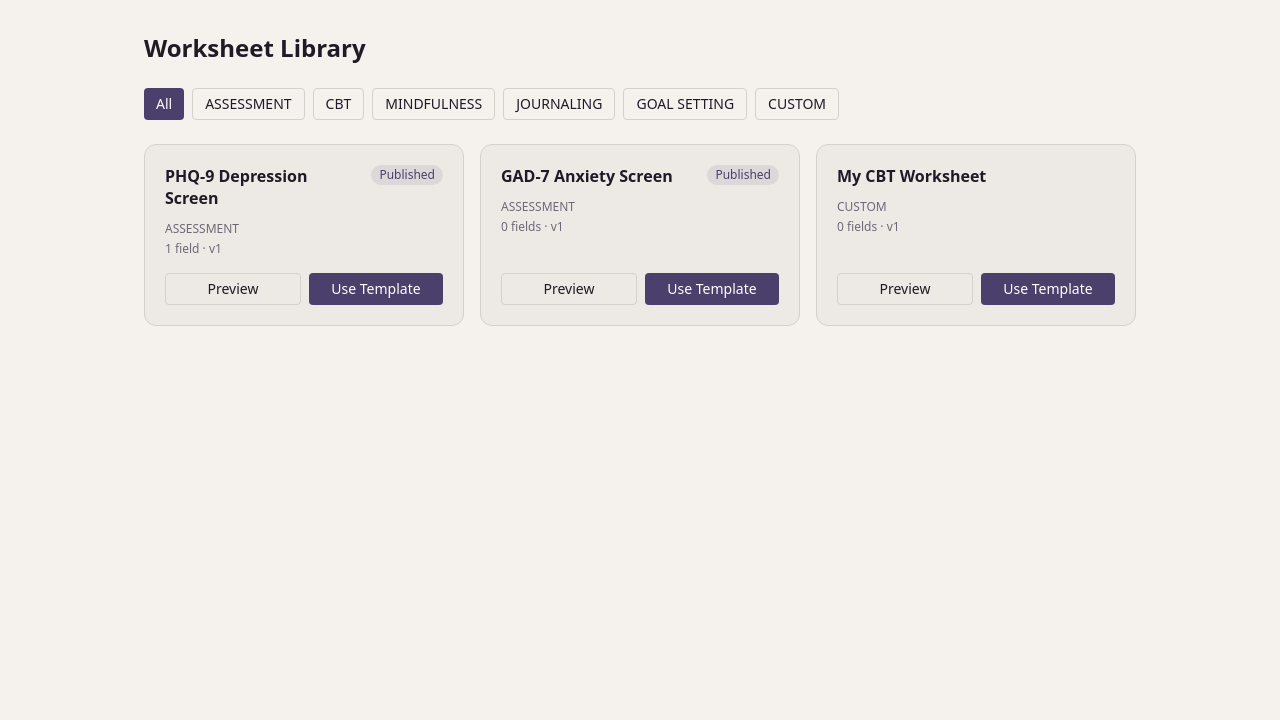
Test: Worksheet library page › closing the preview dialog removes it from the DOM
The width and height of the screenshot is (1280, 720).
Expected: the heading "PHQ-9 Depression Screen" is shown, [165,165,308,209]
Click the button "Preview" below "PHQ-9 Depression Screen" at (233, 289), box [165,273,301,305]
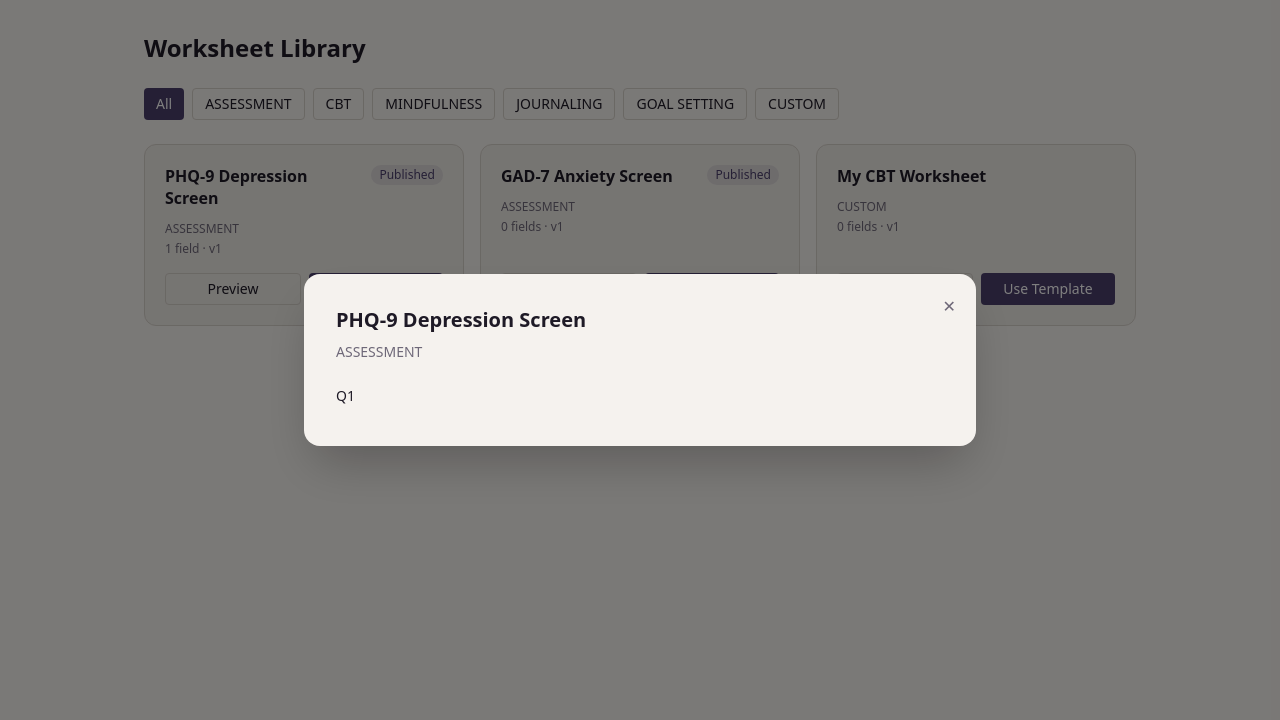
Expected: the dialog is shown
Click the button named "close" at (949, 307), box [939,290,960,324]
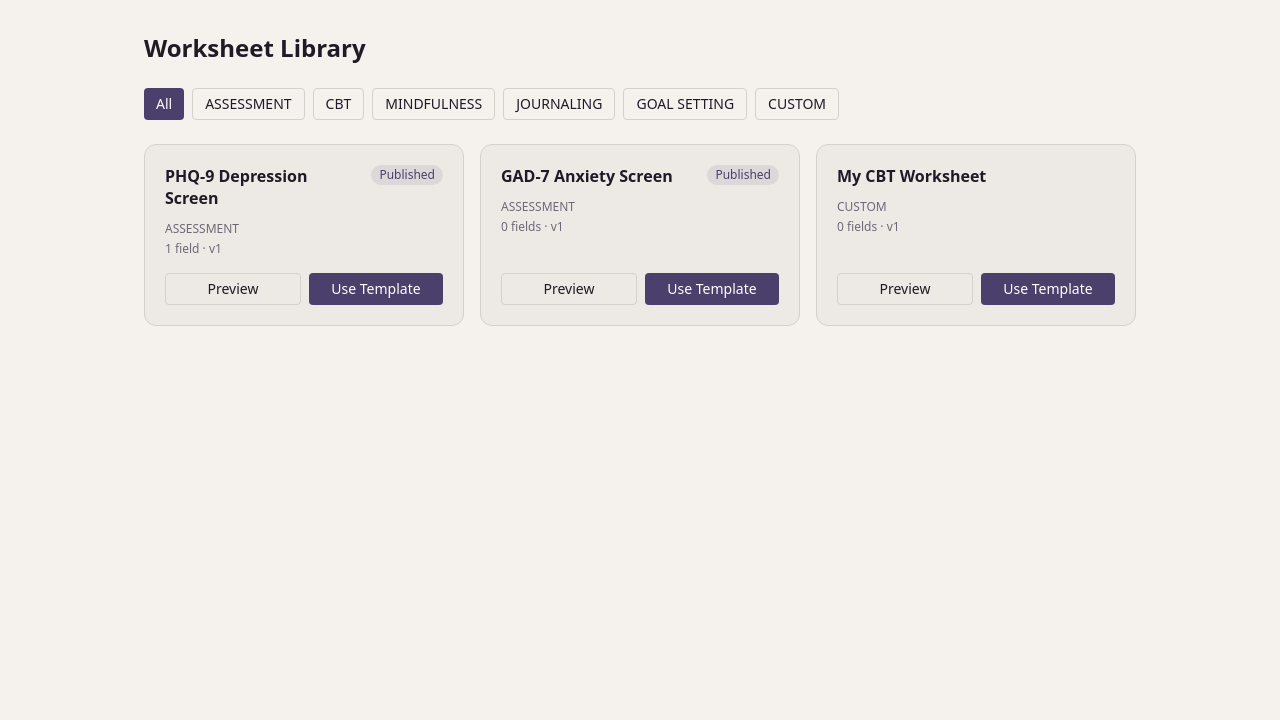
Expected: the dialog is gone
